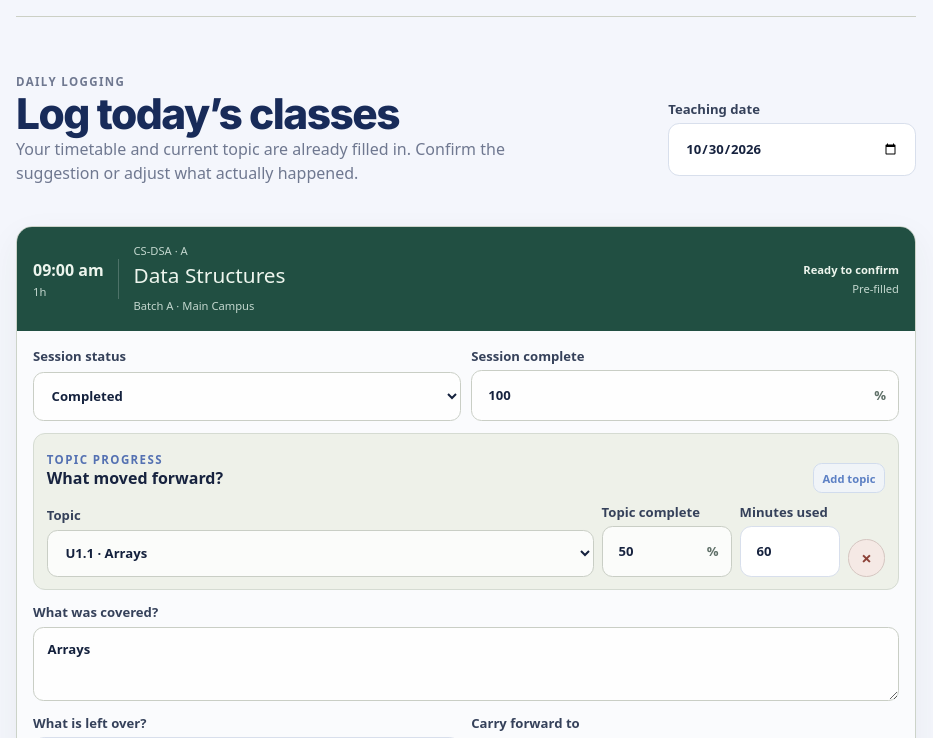
Scenario: SessionLoggingWorkspace › enables adding a topic after removing it and prevents a no-op when all are selected
What coordinates should you click on to do the following:
click the button named "Remove Arrays"
I would click on:
 (866, 558)
Its box is [848,539,885,576].
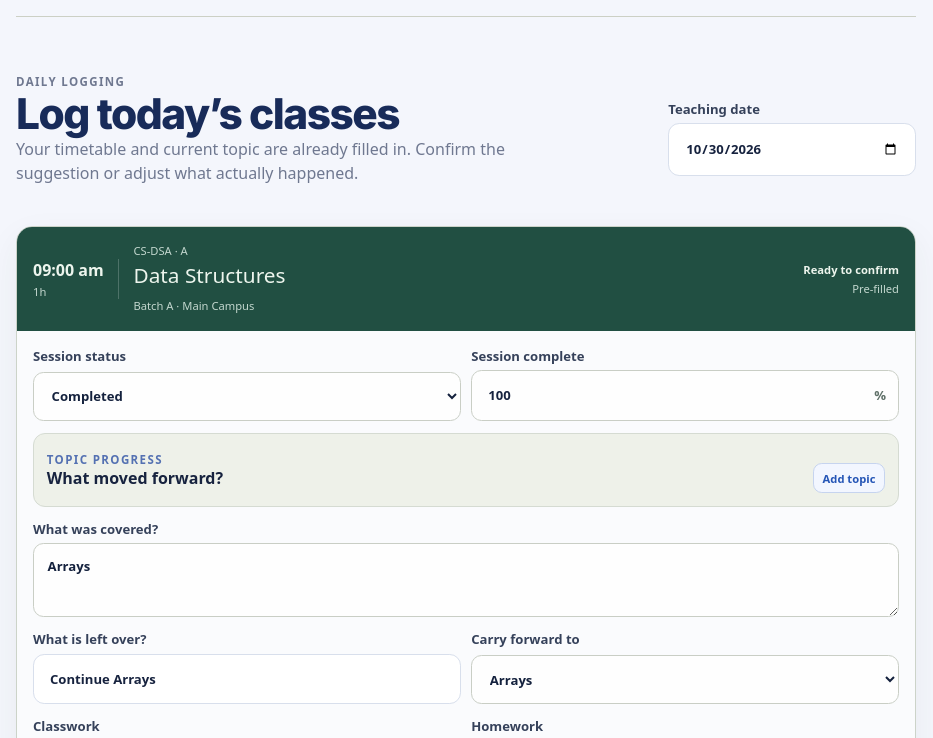
Result: the button "Add topic" is enabled
What coordinates should you click on to do the following:
click the button "Add topic"
I would click on:
 (849, 478)
Its box is [813,463,885,493].
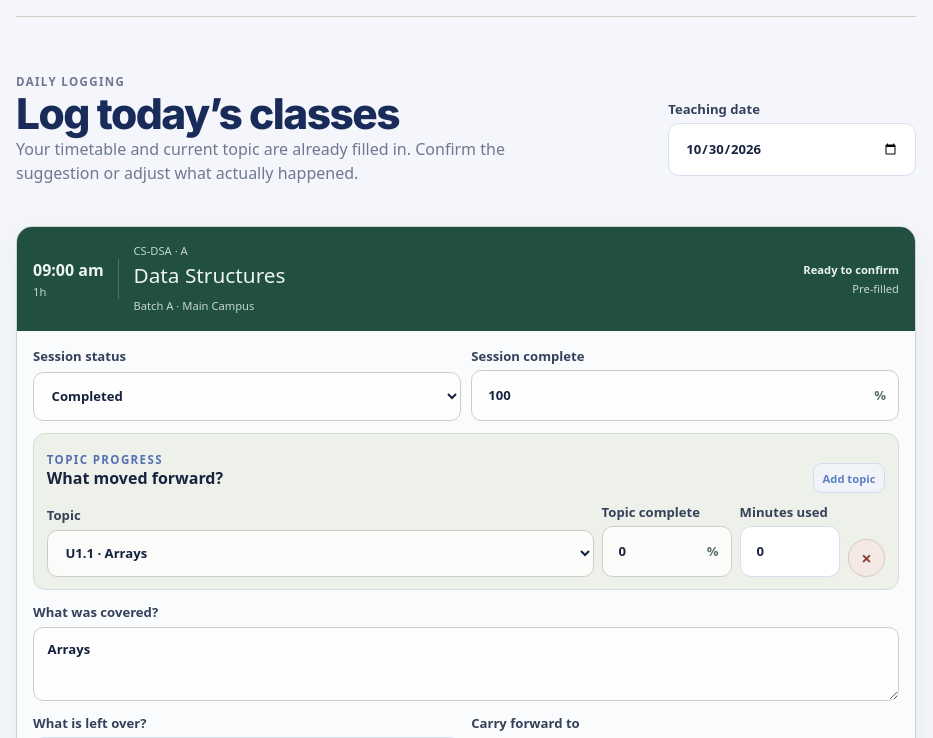
Result: the number field named "Arrays minutes used" is shown at [740,526,840,576]
Result: the button "Add topic" is disabled at [813,463,885,493]
